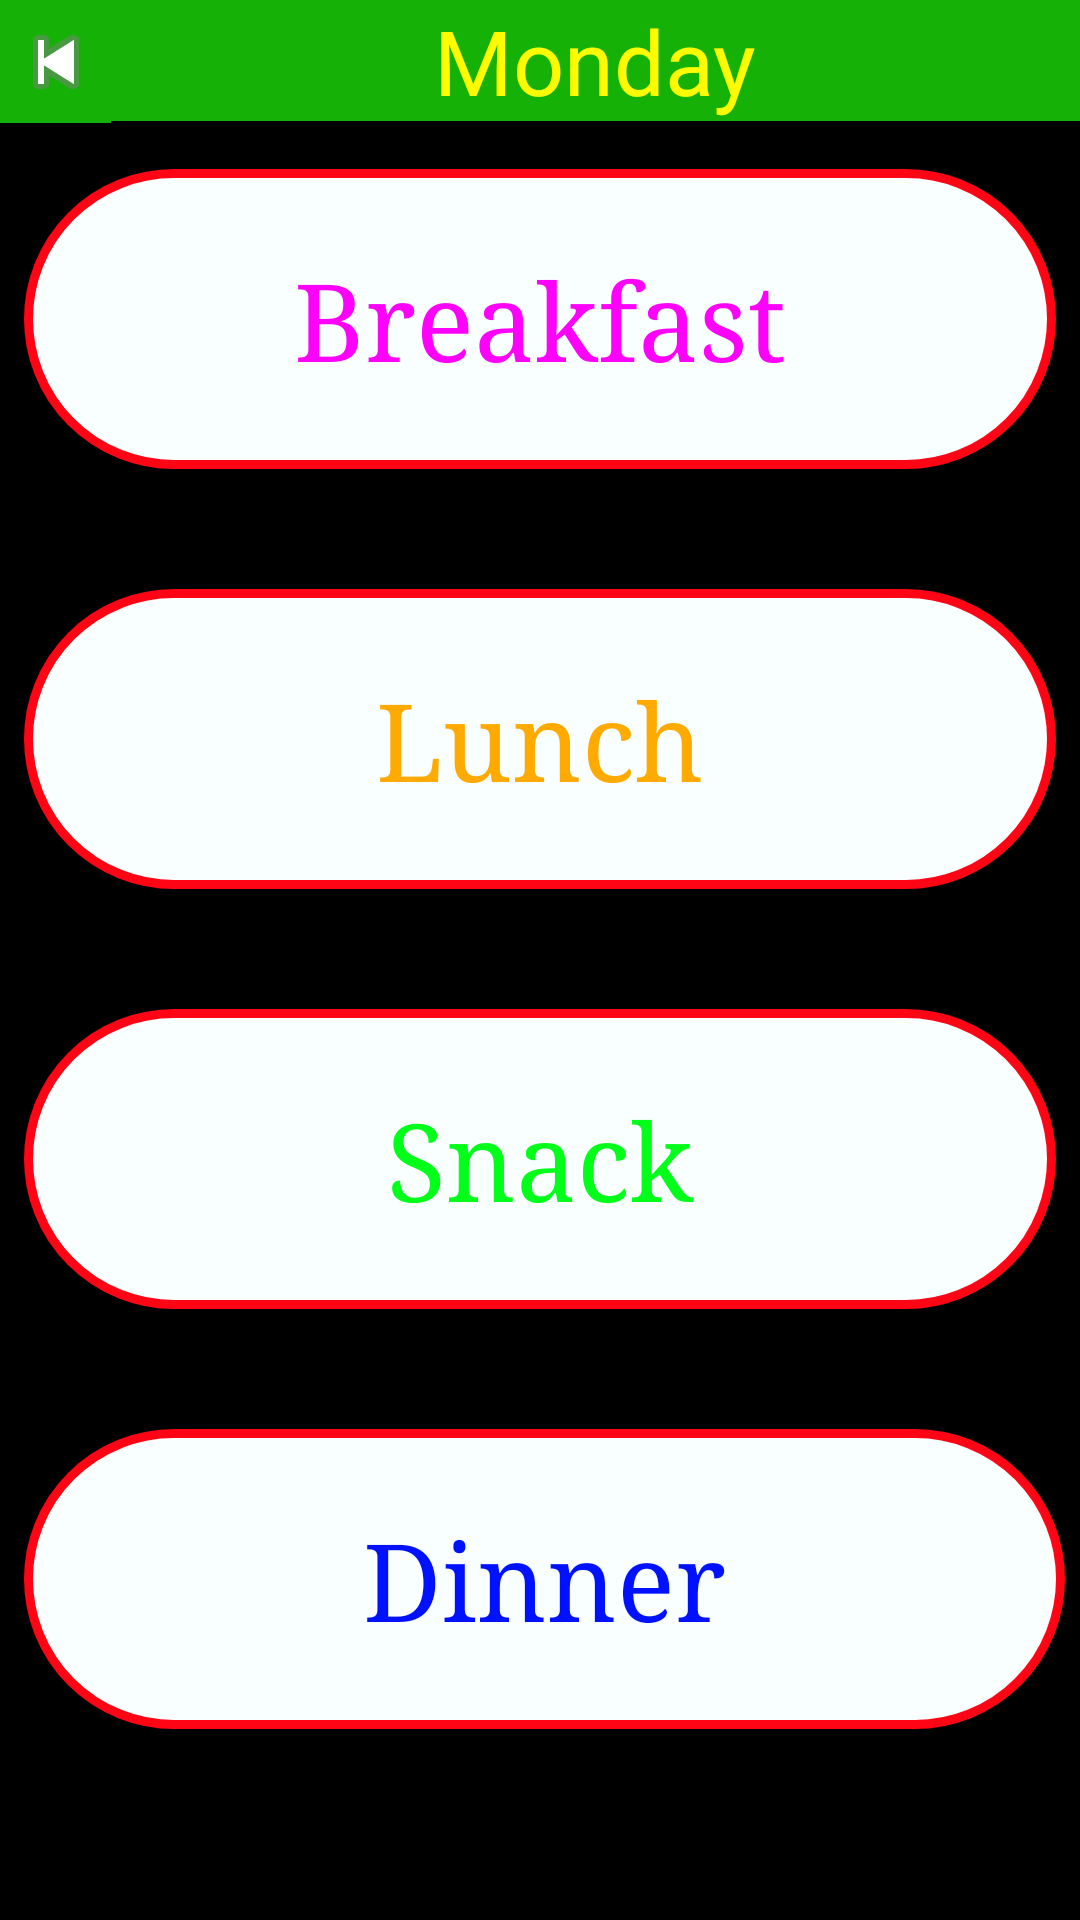

Icons on this 1080px x 1920px Android screen, each with its box as (x1=x1, y1=y1, x2=x2, y2=y2):
previous: (x1=33, y1=35, x2=79, y2=89)
